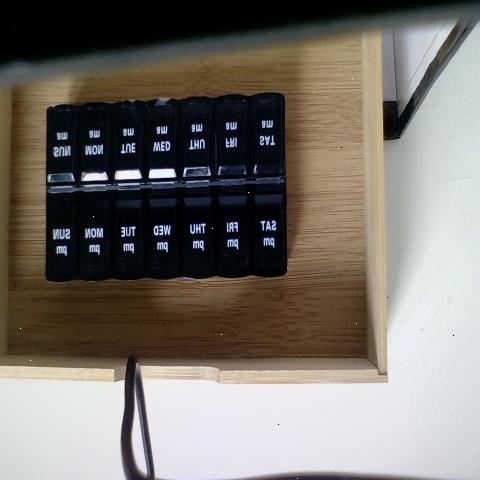FRI-am: (217, 95, 249, 184)
FRI-pm: (219, 193, 249, 279)
MON-am: (79, 106, 112, 192)
MON-pm: (82, 203, 110, 277)
SAT-am: (254, 97, 284, 184)
SAT-pm: (252, 193, 286, 274)
SUN-am: (47, 107, 78, 187)
SUN-pm: (46, 199, 79, 282)
THU-am: (184, 100, 212, 188)
THU-pm: (182, 194, 216, 278)
TUE-am: (116, 106, 145, 191)
TUE-pm: (114, 198, 144, 278)
WED-am: (147, 101, 181, 194)
WED-pm: (148, 196, 181, 277)
